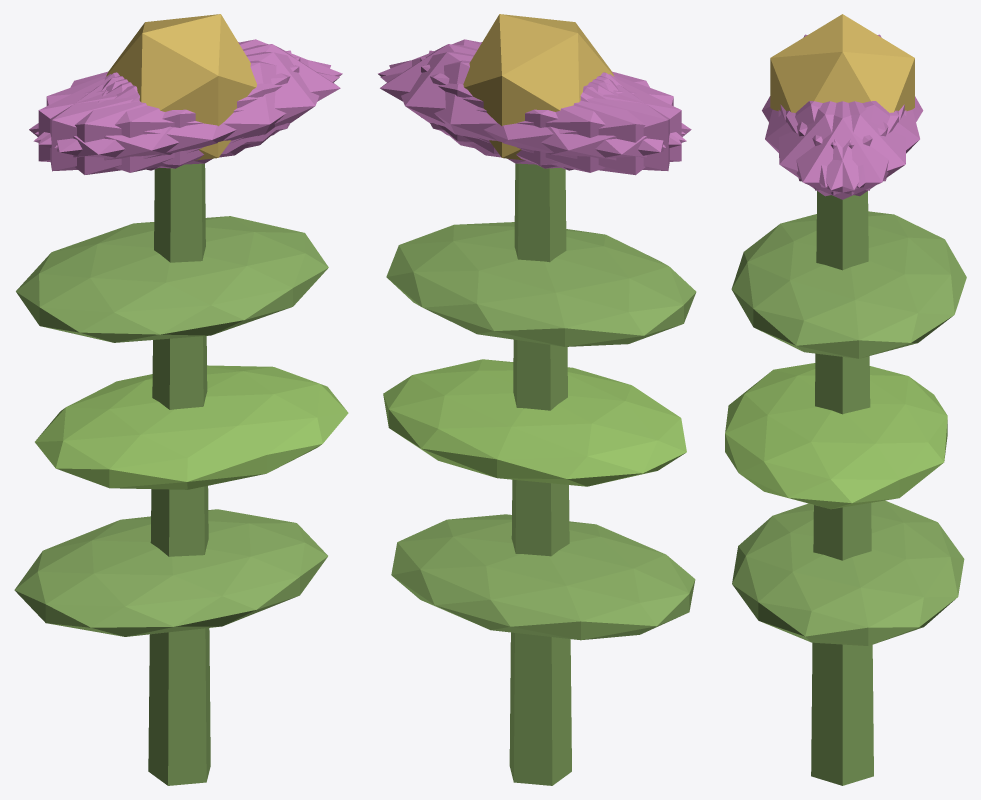
File: haworthiopsis-attenuata.glb
The picture shows the model from 3 angles, left to right: view 1: azimuth 30°, elevation 25°; view 2: azimuth 150°, elevation 25°; view 3: azimuth 270°, elevation 25°; orthographic projection.
Visible parts, largest first — view 1: leaf2, leaf1, leaf0, stem, center, petal1, petal6, petal2, petal5, petal7, petal0, petal4 (+2 smaller); view 2: leaf2, leaf0, leaf1, stem, center, petal8, petal3, petal7, petal4, petal2, petal0, petal5 (+2 smaller); view 3: leaf2, leaf1, leaf0, stem, center, petal0, petal5, petal4, petal8, petal1.
Boxes of the visible parts, left/top/right/bottom form: leaf2: left=16, top=216, right=328, bottom=342; leaf1: left=35, top=365, right=348, bottom=489; leaf0: left=14, top=509, right=327, bottom=636; stem: left=148, top=163, right=210, bottom=785; center: left=106, top=14, right=256, bottom=160; petal1: left=33, top=60, right=339, bottom=172; petal6: left=29, top=74, right=250, bottom=174; petal2: left=50, top=50, right=291, bottom=171; petal5: left=54, top=51, right=330, bottom=165; petal7: left=38, top=57, right=300, bottom=168; petal0: left=106, top=44, right=340, bottom=154; petal4: left=35, top=39, right=342, bottom=144; leaf2: left=386, top=222, right=696, bottom=346; leaf0: left=391, top=514, right=695, bottom=640; leaf1: left=383, top=359, right=686, bottom=486; stem: left=509, top=163, right=571, bottom=785; center: left=463, top=14, right=614, bottom=160; petal8: left=380, top=60, right=686, bottom=172; petal3: left=470, top=74, right=691, bottom=175; petal7: left=429, top=50, right=669, bottom=170; petal4: left=389, top=51, right=665, bottom=165; petal2: left=420, top=57, right=681, bottom=168; petal0: left=380, top=44, right=614, bottom=154; petal5: left=378, top=39, right=685, bottom=144; leaf2: left=731, top=211, right=966, bottom=358; leaf1: left=725, top=363, right=947, bottom=509; leaf0: left=732, top=500, right=964, bottom=645; stem: left=811, top=191, right=873, bottom=785; center: left=770, top=14, right=914, bottom=112; petal0: left=780, top=101, right=904, bottom=199; petal5: left=778, top=101, right=898, bottom=196; petal4: left=786, top=101, right=906, bottom=196; petal8: left=796, top=101, right=919, bottom=187; petal1: left=765, top=101, right=888, bottom=187.
Size of the model in its own units: 0.1452 by 0.3452 by 0.1024.
